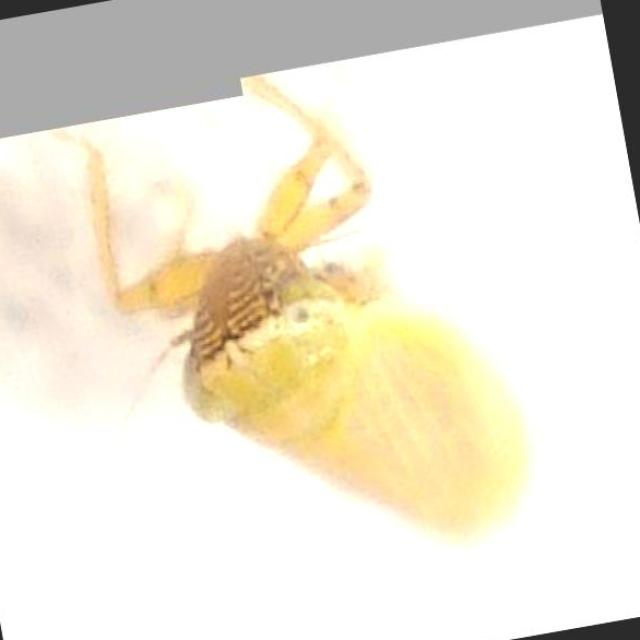green leaf hopper: (88, 78, 528, 533)
